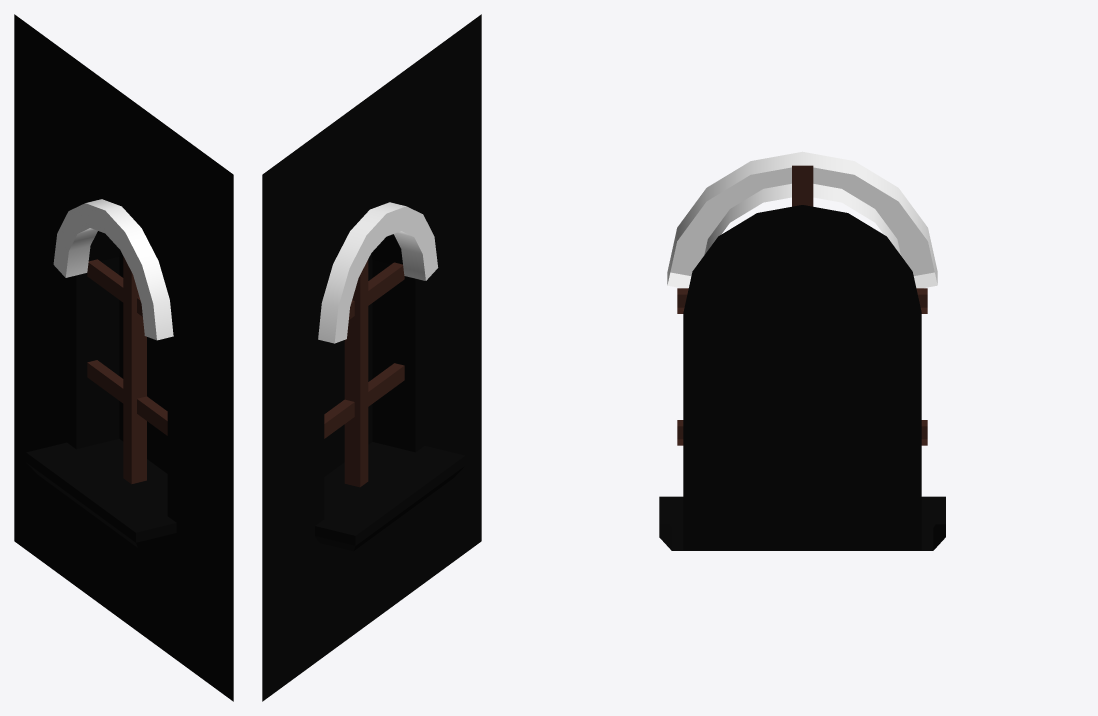
The model's file is standard_window_6.FBX.
3 views of the same model, side by side, from view 1: azimuth 30°, elevation 25°; view 2: azimuth 150°, elevation 25°; view 3: azimuth 270°, elevation 25° (orthographic). The views are drawn at different scales.
Visible parts, largest first — view 1: standard_window_6; view 2: standard_window_6; view 3: standard_window_6.
Part boxes in pixels (box(x1,y1,x2,y2)): standard_window_6: box(14, 14, 233, 701); standard_window_6: box(262, 14, 481, 701); standard_window_6: box(659, 151, 945, 550).
Size of the model in its own units: 58.36 by 350 by 264.
